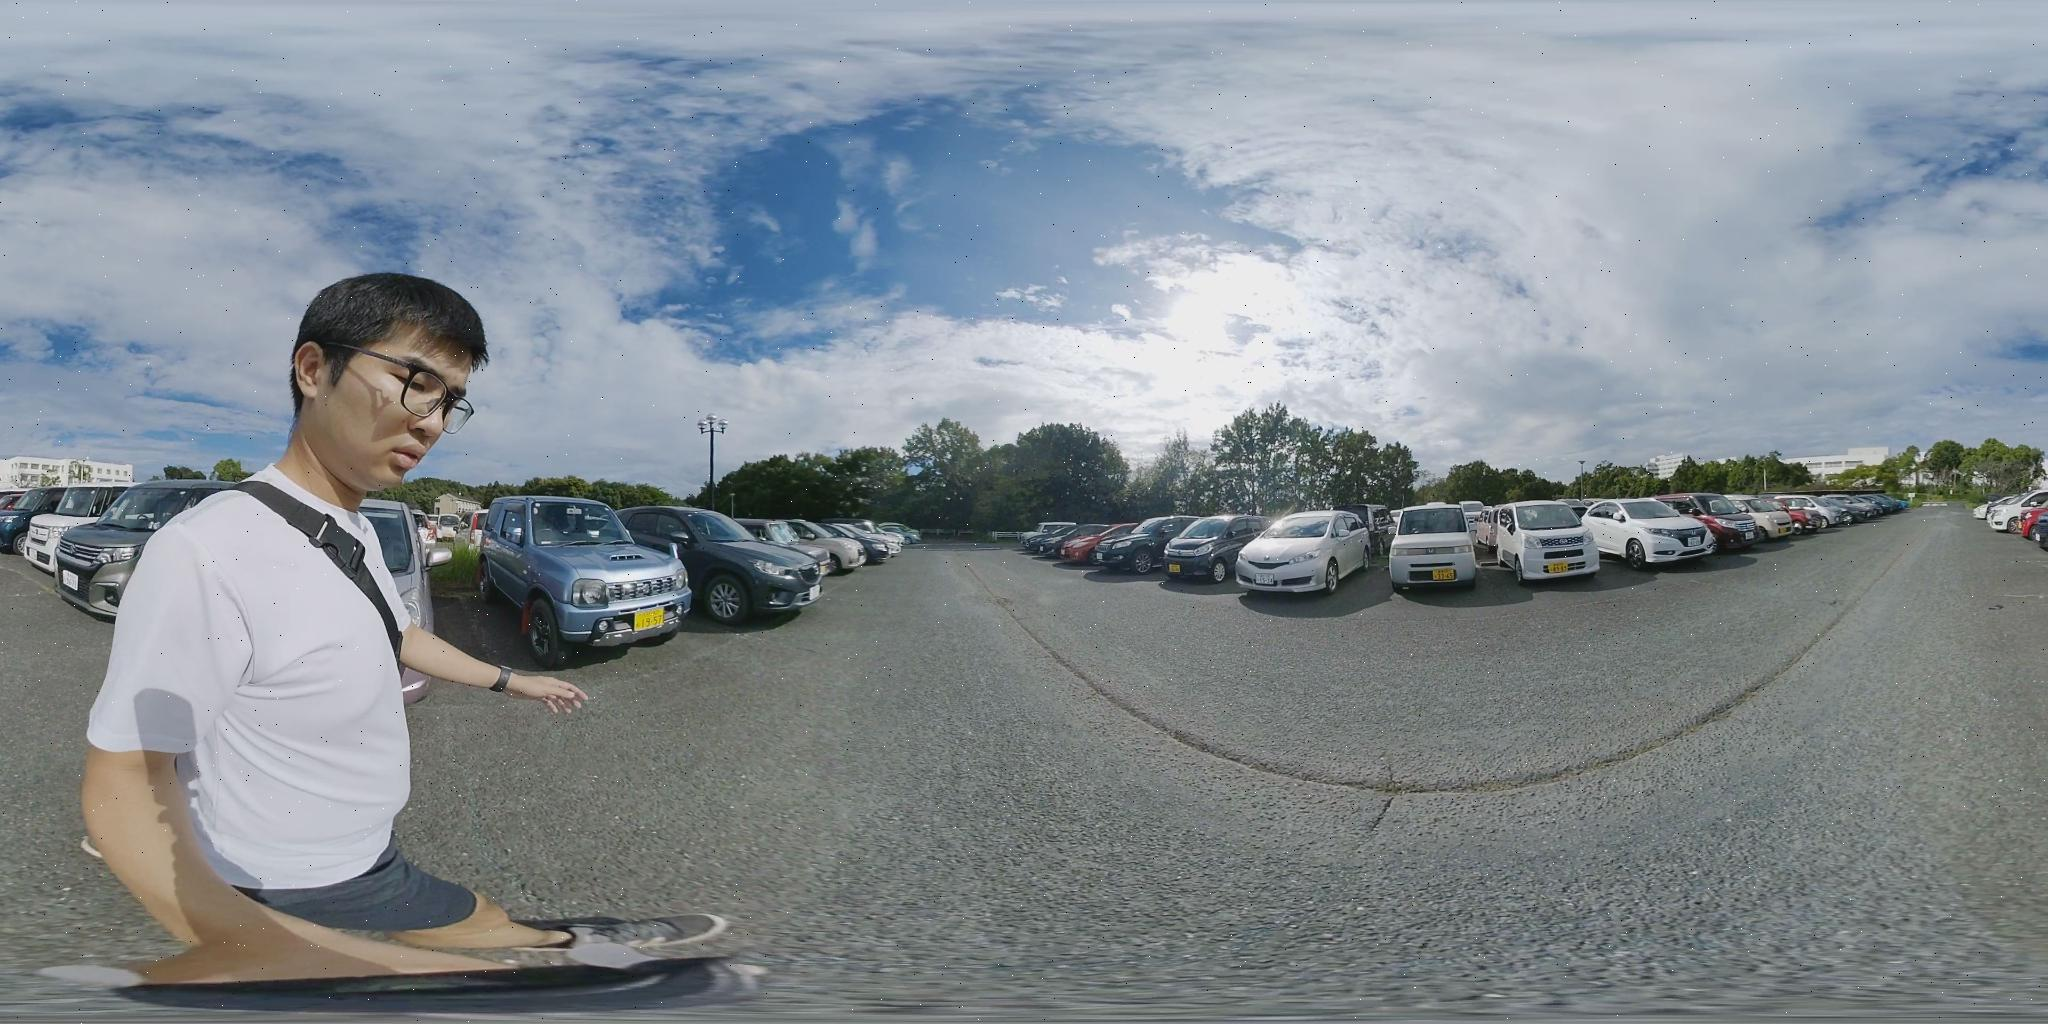car: (470, 495, 694, 665), (20, 481, 257, 618), (616, 509, 836, 631), (1226, 512, 1386, 594), (1576, 498, 1719, 566), (1485, 503, 1607, 580), (0, 483, 121, 556), (1388, 504, 1477, 590), (1132, 517, 1254, 579), (759, 521, 872, 573), (1096, 517, 1204, 571), (1691, 494, 1787, 546), (811, 521, 896, 566), (1733, 496, 1816, 534), (1788, 496, 1863, 532), (1053, 525, 1126, 559), (1021, 525, 1095, 558), (862, 524, 913, 559), (1778, 498, 1830, 530), (2010, 495, 2041, 537)
